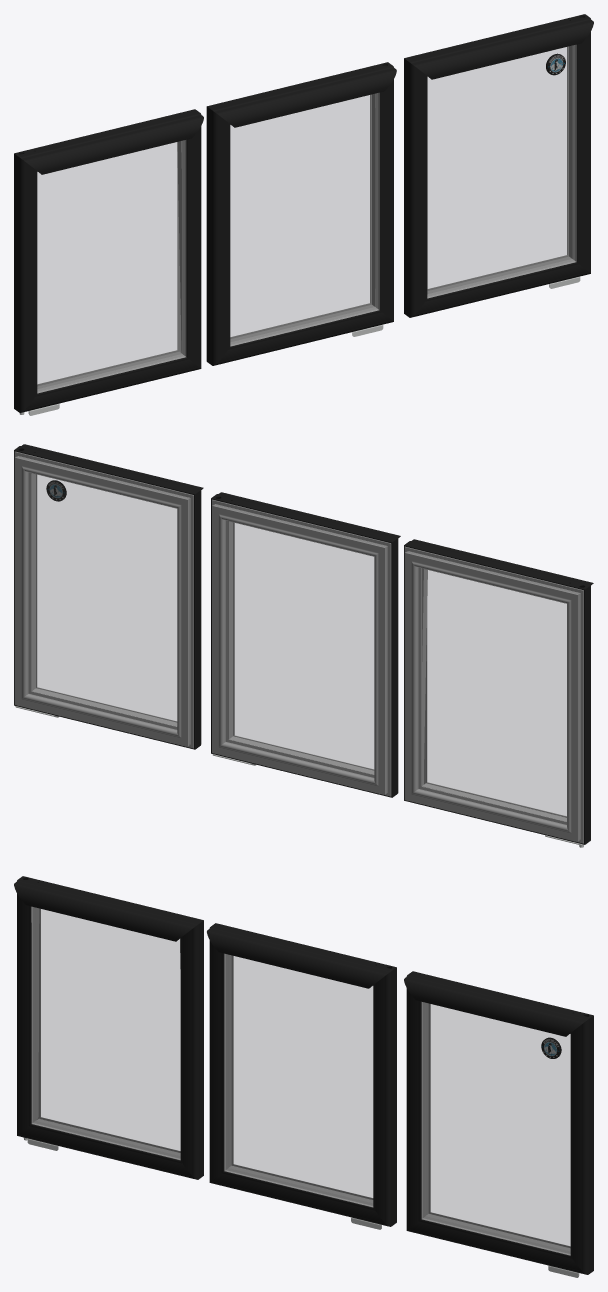
Rendered from GlassDoor.glb.
The picture shows the model from 3 angles, top to bottom: view 1: azimuth 30°, elevation 25°; view 2: azimuth 150°, elevation 25°; view 3: azimuth 330°, elevation 25°; orthographic projection.
Visible parts, largest first — view 1: GlassDoor-01, GlassDoor-02, GlassDoor-03; view 2: GlassDoor-03, GlassDoor-02, GlassDoor-01; view 3: GlassDoor-03, GlassDoor-02, GlassDoor-01.
Part boxes in pixels (box(x1,y1,x2,y2)): GlassDoor-01: box(14, 109, 203, 415); GlassDoor-02: box(206, 62, 396, 365); GlassDoor-03: box(404, 14, 593, 317); GlassDoor-03: box(14, 444, 203, 749); GlassDoor-02: box(211, 492, 400, 797); GlassDoor-01: box(404, 539, 593, 847); GlassDoor-03: box(404, 971, 593, 1277); GlassDoor-02: box(207, 923, 396, 1229); GlassDoor-01: box(14, 876, 203, 1179).
Bounding box in the file's own units: 1.39 × 0.6069 × 0.0681.
6 materials, 2 textured.
